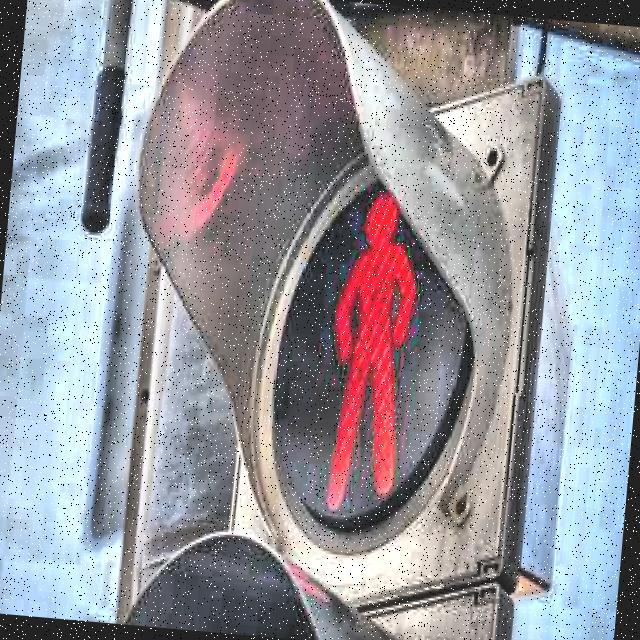red_light: (314, 179, 427, 523)
